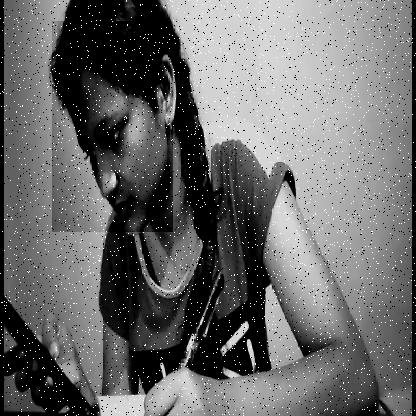Distracted: (52, 21, 173, 232)
